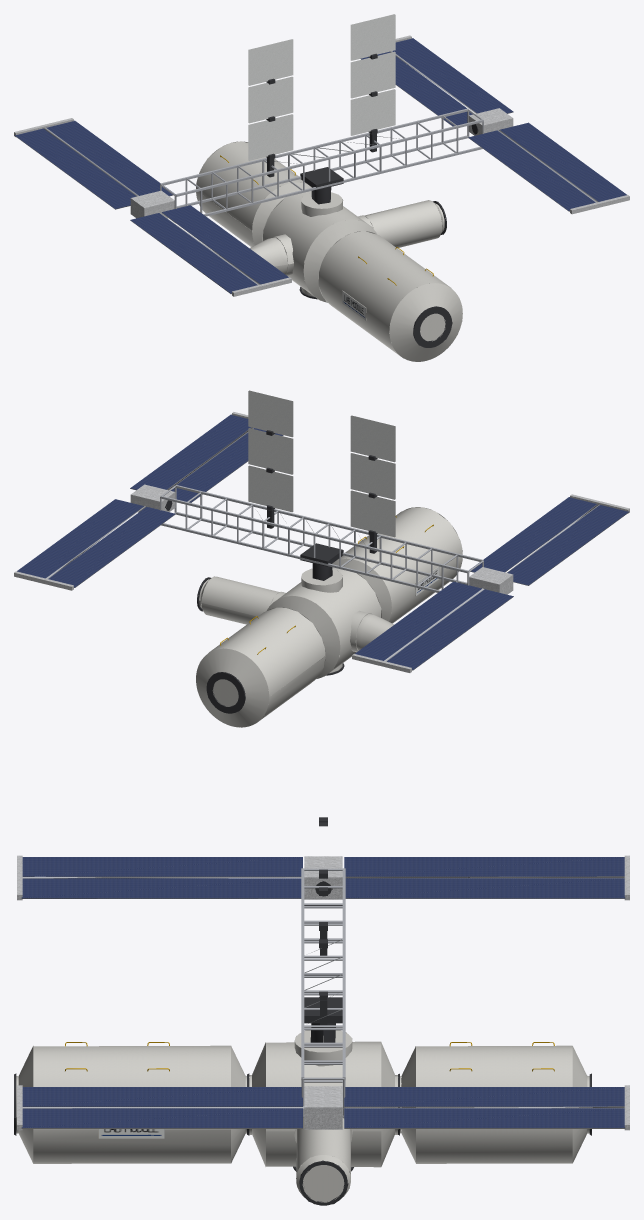
Rendered from RiftDeepStation.glb.
The picture shows the model from 3 angles, top to bottom: view 1: azimuth 30°, elevation 25°; view 2: azimuth 150°, elevation 25°; view 3: azimuth 270°, elevation 25°; orthographic projection. The views are drawn at different scales.
Parts seen in each view (by area): view 1: Solar array blankets, Modules, Radiators, Truss and pylon, Central node, Solar array masts and boxes, Berthing rings and hatches, Docking adapter; view 2: Solar array blankets, Modules, Radiators, Truss and pylon, Central node, Solar array masts and boxes, Berthing rings and hatches, Docking adapter; view 3: Solar array blankets, Modules, Central node, Solar array masts and boxes, Truss and pylon, Berthing rings and hatches, Radiators, Module labels.
Boxes of the visible parts, x1,y1,x2,y2 form: Solar array blankets: (14,38,626,294); Modules: (196,141,462,361); Radiators: (248,14,395,177); Truss and pylon: (160,108,483,223); Central node: (262,191,377,302); Solar array masts and boxes: (14,35,629,296); Berthing rings and hatches: (299,201,452,347); Docking adapter: (250,237,287,274); Solar array blankets: (17,414,629,670); Modules: (196,507,462,727); Radiators: (248,390,395,553); Truss and pylon: (160,485,483,592); Central node: (266,567,381,678); Solar array masts and boxes: (14,412,629,672); Berthing rings and hatches: (197,577,344,713); Docking adapter: (355,614,393,650); Solar array blankets: (21,857,625,1128); Modules: (16,1045,589,1202); Central node: (249,1030,398,1167); Solar array masts and boxes: (17,855,629,1130); Truss and pylon: (301,868,345,1117); Berthing rings and hatches: (14,1073,591,1205); Radiators: (319,817,327,1025); Module labels: (98,1129,164,1138).
Bounding box in the file's own units: 23.34 × 14.44 × 22.42.
Materials: 10 (10 with a texture image).
